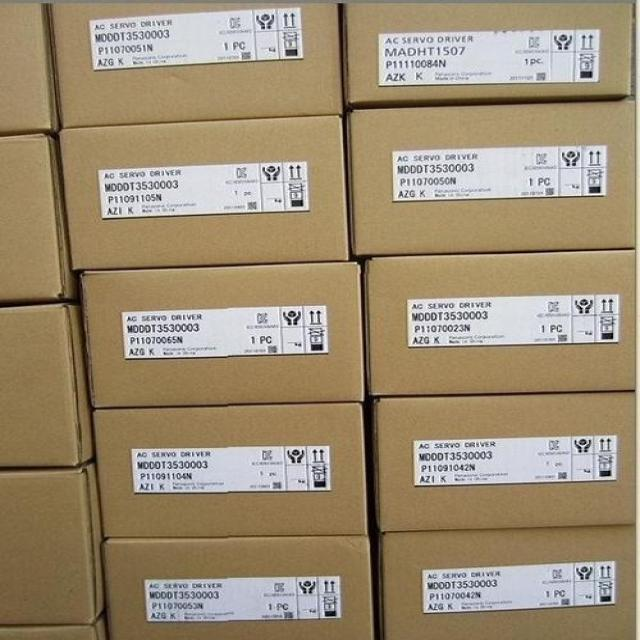box: (58, 115, 355, 277), (346, 103, 635, 258), (77, 260, 365, 411), (356, 248, 637, 399), (365, 391, 636, 535), (93, 401, 371, 538), (51, 3, 348, 128), (342, 2, 634, 107), (372, 524, 637, 638), (102, 534, 378, 636), (0, 457, 105, 624), (0, 303, 96, 467), (0, 132, 82, 303), (0, 1, 60, 132)
